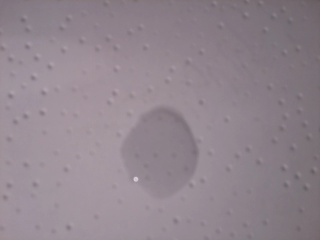Water_detected: (126, 108, 191, 192)
